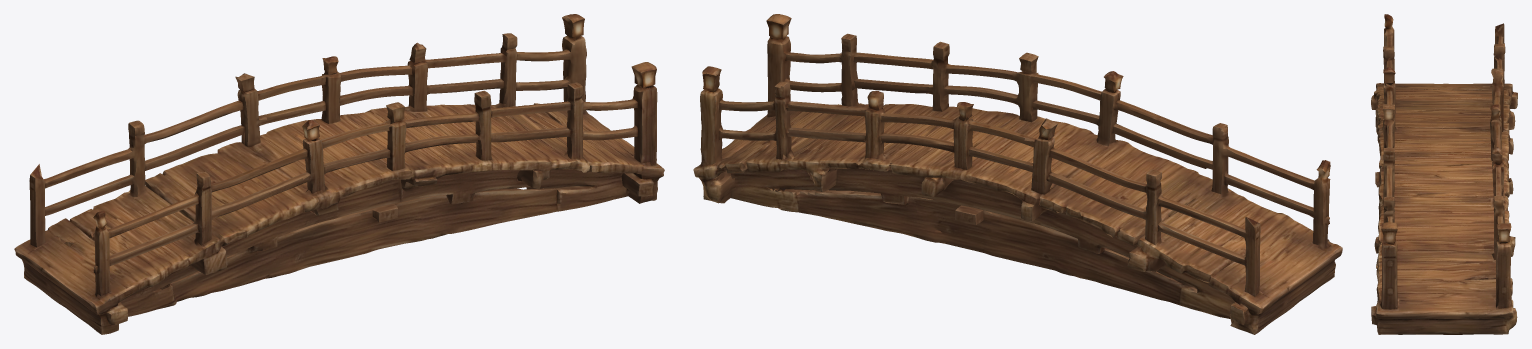
The model's file is stormheart_deck_segment.glb.
3 views of the same model, side by side, from view 1: azimuth 30°, elevation 25°; view 2: azimuth 150°, elevation 25°; view 3: azimuth 270°, elevation 25° (orthographic). The views are drawn at different scales.
Visible parts, largest first — view 1: Mesh_0; view 2: Mesh_0; view 3: Mesh_0.
Boxes of the visible parts, x1,y1,x2,y2 form: Mesh_0: (14,14,664,334); Mesh_0: (693,14,1342,334); Mesh_0: (1371,14,1517,334).
Size of the model in its own units: 1.9 by 0.5063 by 0.5132.
1 material, 1 textured.
